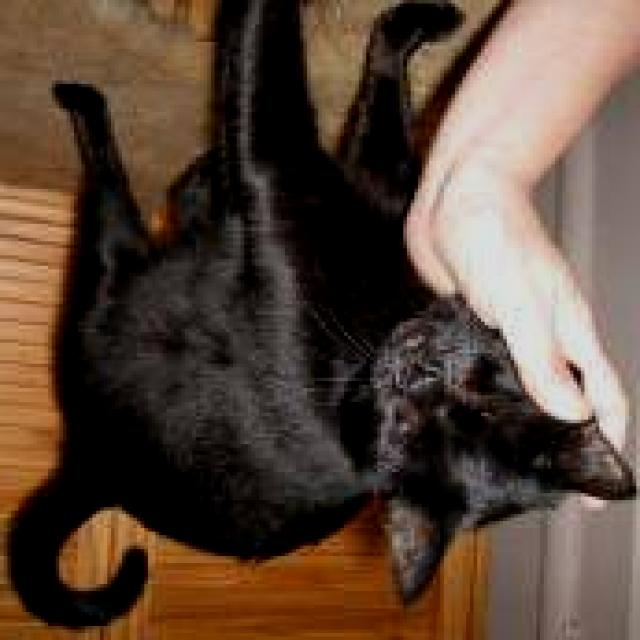Kucing: (11, 210, 594, 598)
